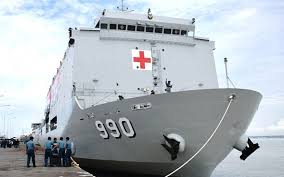tau_muctieu: (41, 9, 267, 177)
